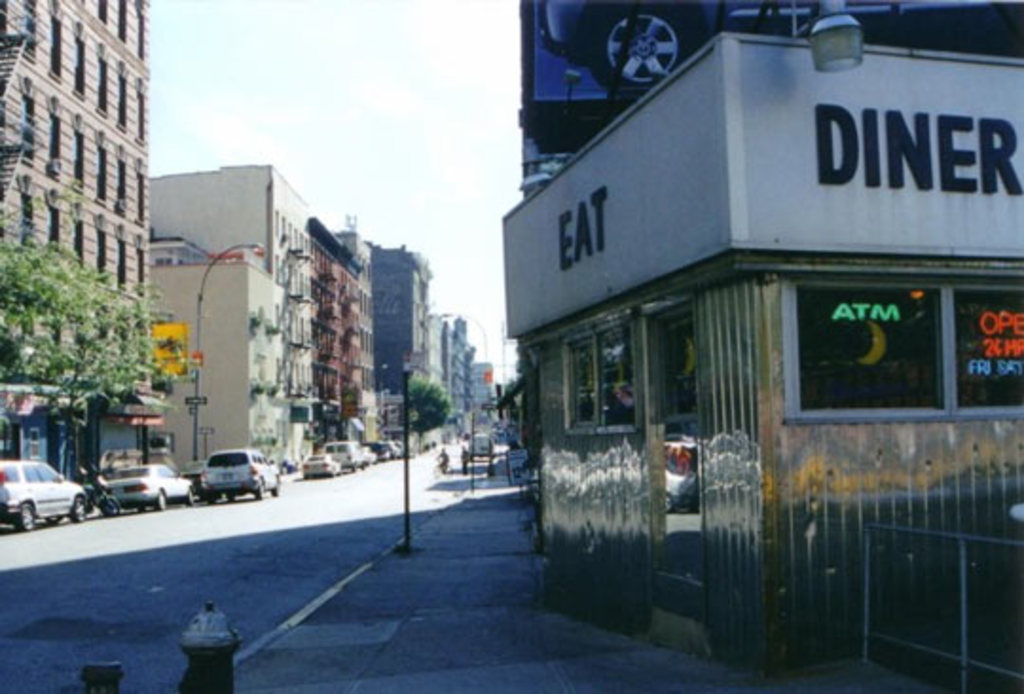Tree: (11, 219, 164, 472), (400, 375, 455, 453)
